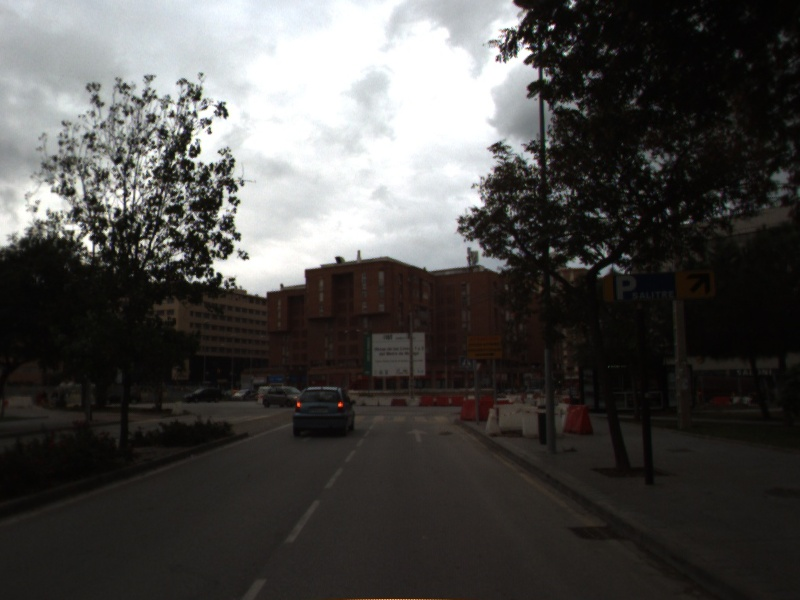STRAIGHT: (404, 427, 432, 444)
